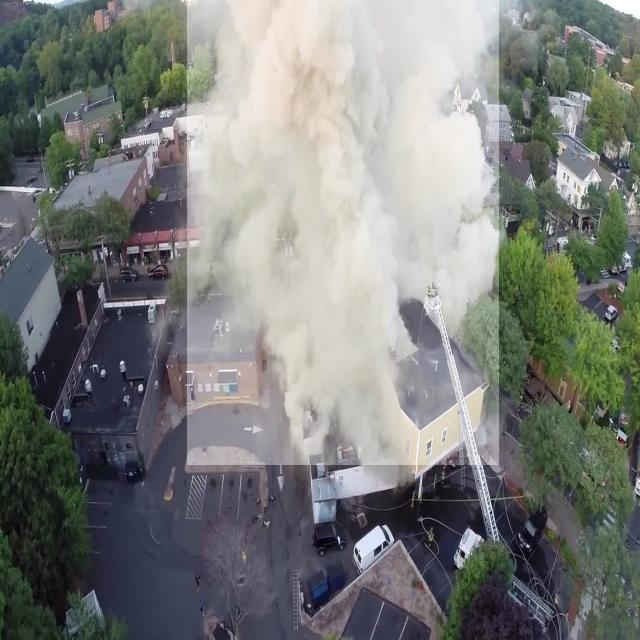Smoke: (188, 0, 500, 465)
